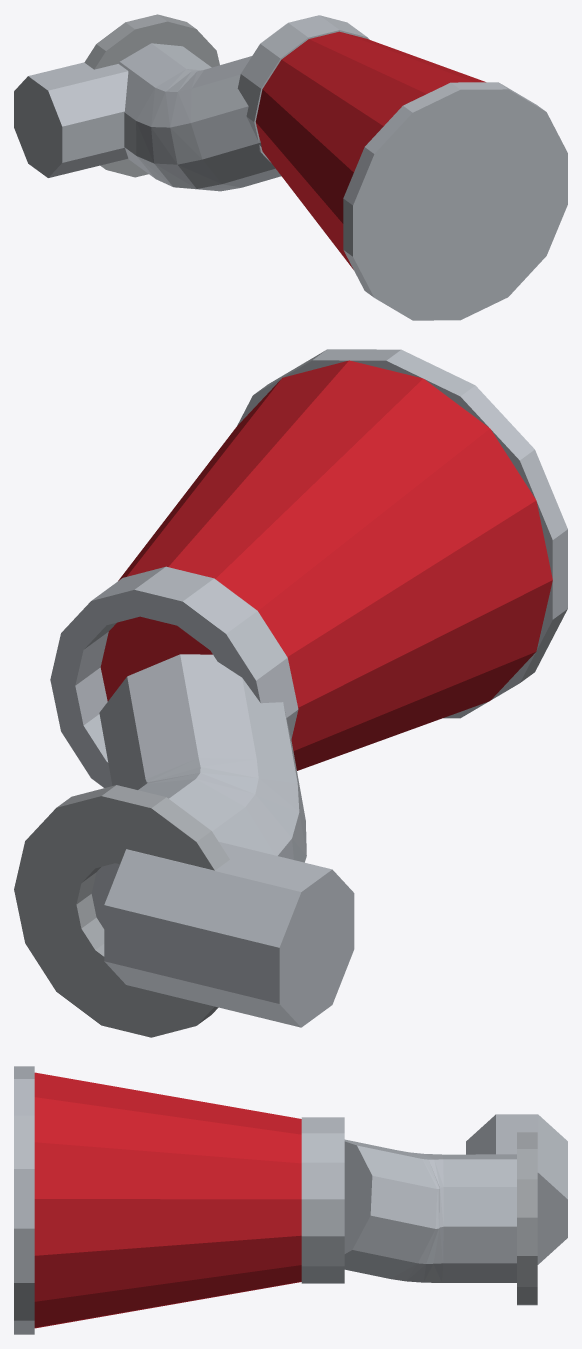
Rendered from starter_car.glb.
3 views of the same model, one above another, from view 1: azimuth 30°, elevation 25°; view 2: azimuth 150°, elevation 25°; view 3: azimuth 270°, elevation 25° (orthographic). The views are drawn at different scales.
Visible parts, largest first — view 1: model; view 2: model; view 3: model.
Part boxes in pixels (x1,y1,x2,y2): model: [14, 14, 567, 320]; model: [14, 349, 567, 1037]; model: [14, 1066, 567, 1334].
Size of the model in its own units: 0.206 by 0.1629 by 0.3216.
2 materials, 1 textured.
